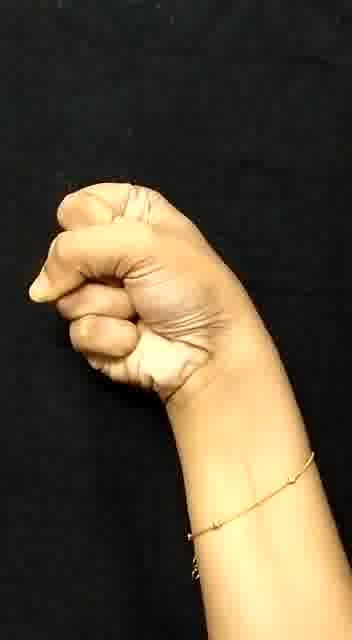mushti: (26, 166, 272, 432)
